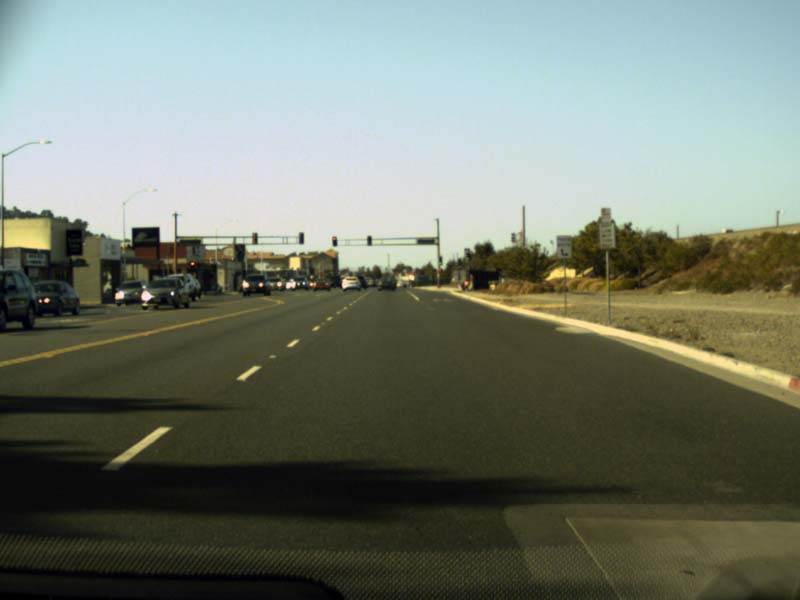Green: (466, 251, 471, 261), (438, 256, 442, 264)
Red: (332, 236, 337, 246)
